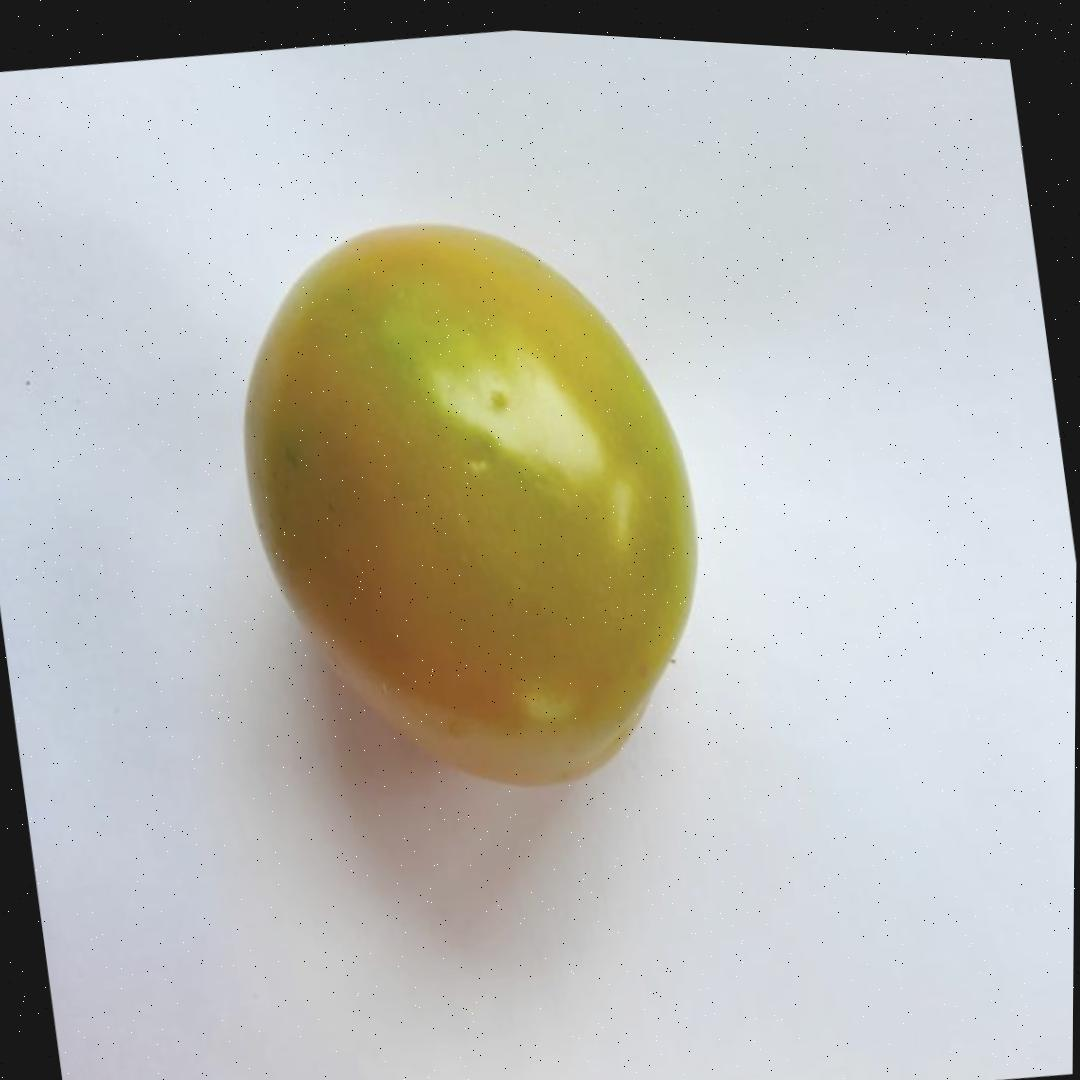setengah_matang: (204, 169, 740, 841)
